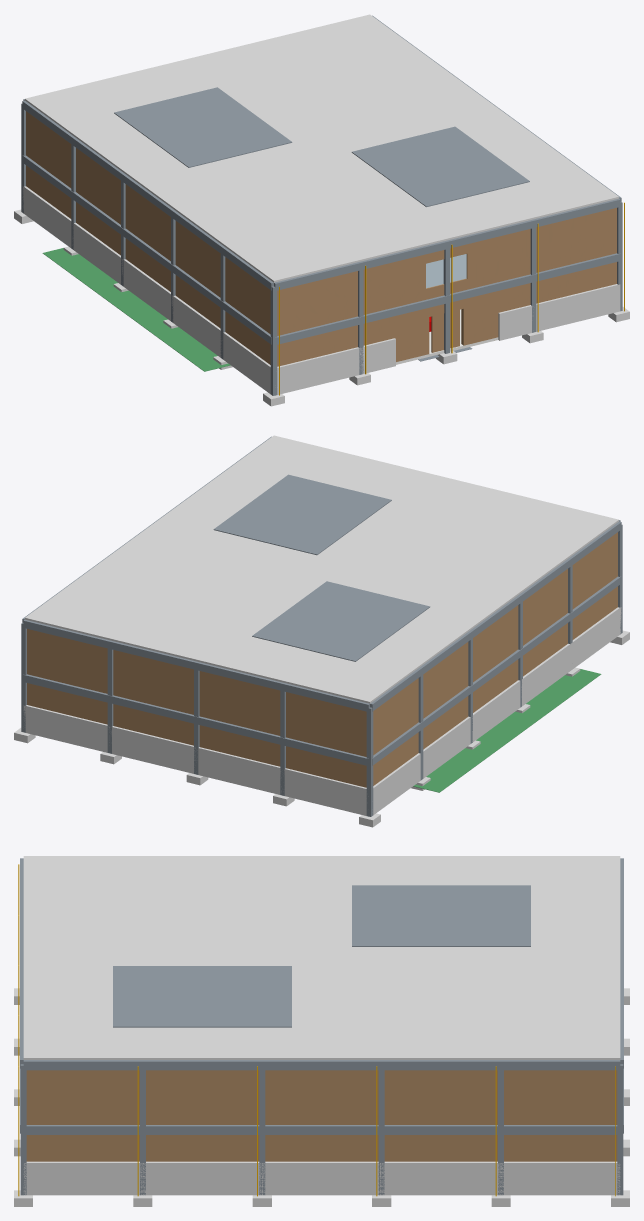
File: generated_building_22.glb
The picture shows the model from 3 angles, top to bottom: view 1: azimuth 30°, elevation 25°; view 2: azimuth 150°, elevation 25°; view 3: azimuth 270°, elevation 25°; orthographic projection. The views are drawn at different scales.
Parts seen in each view (by area): view 1: architectural, structural, landscape, windows, electrical, doors; view 2: architectural, landscape, structural; view 3: architectural, structural, landscape, electrical.
Boxes of the visible parts, left/top/right/bottom form: architectural: left=25, top=14, right=618, bottom=366; structural: left=14, top=15, right=629, bottom=406; landscape: left=22, top=186, right=620, bottom=394; windows: left=426, top=254, right=466, bottom=288; electrical: left=279, top=202, right=624, bottom=395; doors: left=431, top=309, right=459, bottom=352; architectural: left=25, top=435, right=618, bottom=787; landscape: left=23, top=607, right=621, bottom=815; structural: left=14, top=436, right=629, bottom=827; architectural: left=23, top=856, right=620, bottom=1161; structural: left=14, top=858, right=629, bottom=1206; landscape: left=23, top=1161, right=620, bottom=1195; electrical: left=18, top=864, right=615, bottom=1196.
Bounding box in the file's own units: 21.9 × 6.74 × 25.8.
